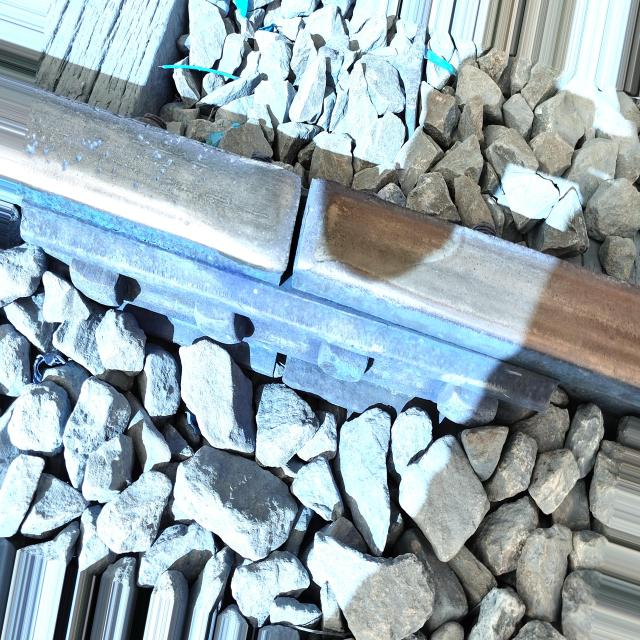crack: (260, 144, 336, 299)
